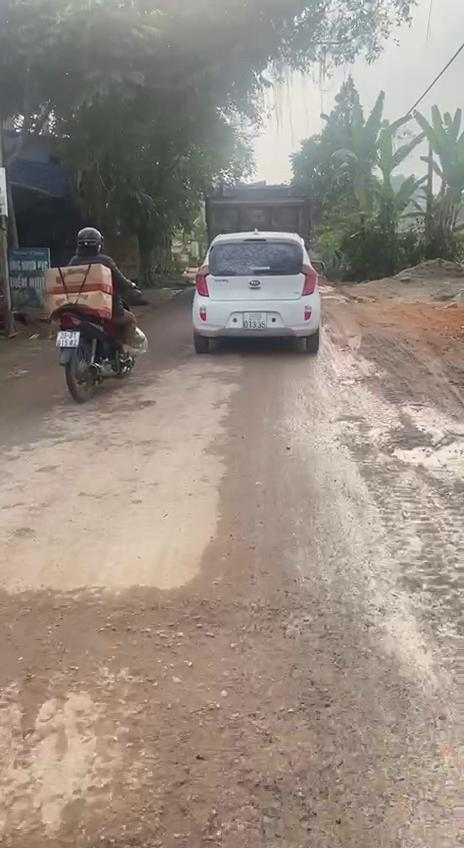pothole: (0, 578, 285, 670), (112, 729, 322, 848), (388, 438, 464, 474)
